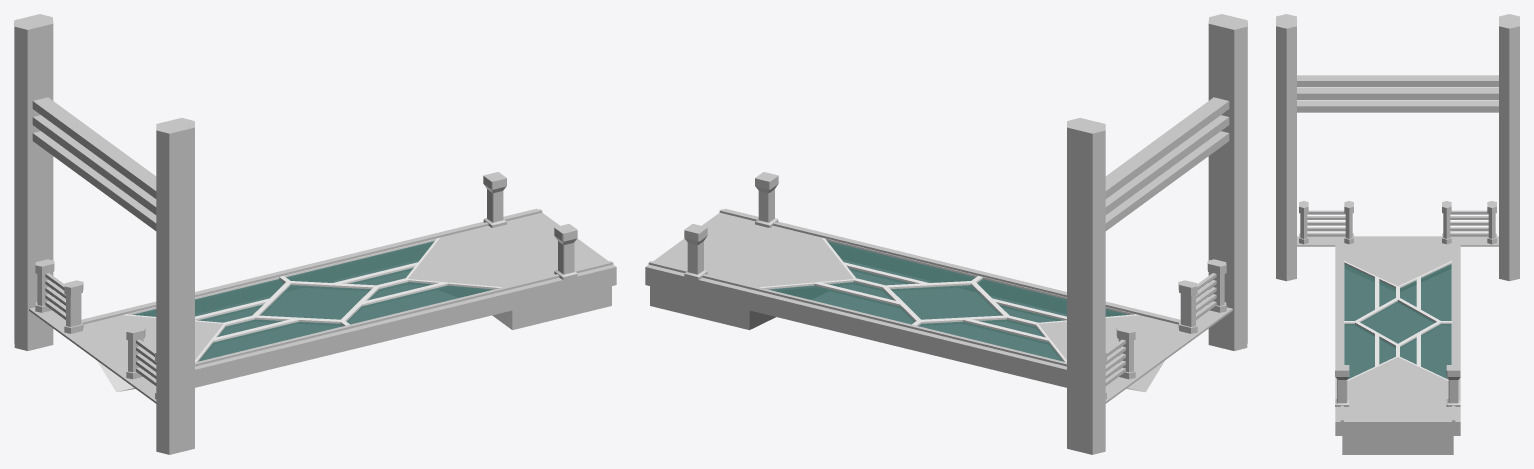
File: Bridge.fbx
3 views of the same model, side by side, from view 1: azimuth 30°, elevation 25°; view 2: azimuth 150°, elevation 25°; view 3: azimuth 270°, elevation 25° (orthographic). The views are drawn at different scales.
Visible parts, largest first — view 1: Bridge Pylons.002, Bridge Plane.024, Plane.187, Plane.184, Plane.194, Bridge Plane.023, Plane.186, Plane.192, Plane.195, Big Post.024, Bridge Pylons.003, Plane.193 (+1 smaller); view 2: Bridge Pylons.002, Bridge Plane.024, Plane.187, Plane.184, Plane.194, Bridge Plane.023, Plane.186, Plane.192, Plane.195, Big Post.024, Bridge Pylons.003, Plane.193 (+1 smaller); view 3: Bridge Pylons.002, Plane.187, Bridge Plane.024, Plane.194, Plane.192, Bridge Plane.023, Plane.184, Plane.193, Plane.195, Plane.186, Big Post.024, Bridge Pylons.004 (+1 smaller).
Part boxes in pixels (x1,y1,x2,y2): Bridge Pylons.002: [14, 14, 194, 454]; Bridge Plane.024: [132, 241, 493, 361]; Plane.187: [408, 212, 611, 329]; Plane.184: [81, 208, 616, 387]; Plane.194: [32, 97, 156, 230]; Bridge Plane.023: [123, 237, 501, 362]; Plane.186: [81, 209, 613, 366]; Plane.192: [83, 315, 223, 392]; Plane.195: [29, 305, 156, 403]; Big Post.024: [483, 172, 577, 281]; Bridge Pylons.003: [64, 280, 145, 379]; Plane.193: [45, 273, 156, 385]; Bridge Pylons.002: [1067, 14, 1247, 454]; Bridge Plane.024: [768, 241, 1129, 361]; Plane.187: [650, 212, 853, 329]; Plane.184: [645, 208, 1180, 387]; Plane.194: [1105, 97, 1229, 230]; Bridge Plane.023: [760, 237, 1138, 362]; Plane.186: [648, 209, 1180, 366]; Plane.192: [1038, 315, 1178, 392]; Plane.195: [1105, 305, 1232, 403]; Big Post.024: [684, 172, 778, 279]; Bridge Pylons.003: [1116, 280, 1197, 379]; Plane.193: [1105, 273, 1216, 385]; Bridge Pylons.002: [1276, 14, 1519, 281]; Plane.187: [1342, 357, 1453, 454]; Bridge Plane.024: [1344, 264, 1451, 379]; Plane.194: [1297, 75, 1498, 112]; Plane.192: [1344, 245, 1451, 286]; Bridge Plane.023: [1344, 261, 1451, 380]; Plane.184: [1335, 245, 1460, 435]; Plane.193: [1307, 210, 1488, 236]; Plane.195: [1297, 236, 1498, 246]; Plane.186: [1340, 243, 1455, 421]; Big Post.024: [1335, 365, 1460, 406]; Bridge Pylons.004: [1299, 201, 1496, 244].
Bounding box in the file's own units: 6400 × 4000 × 3500.
